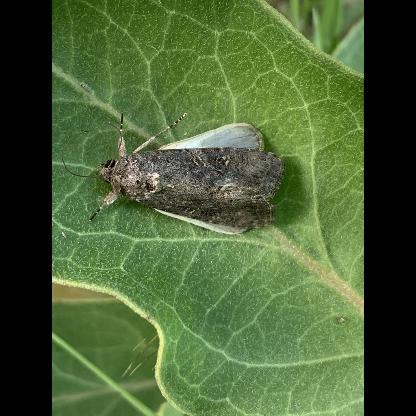Fall Armyworm Moth: (59, 107, 289, 239)
